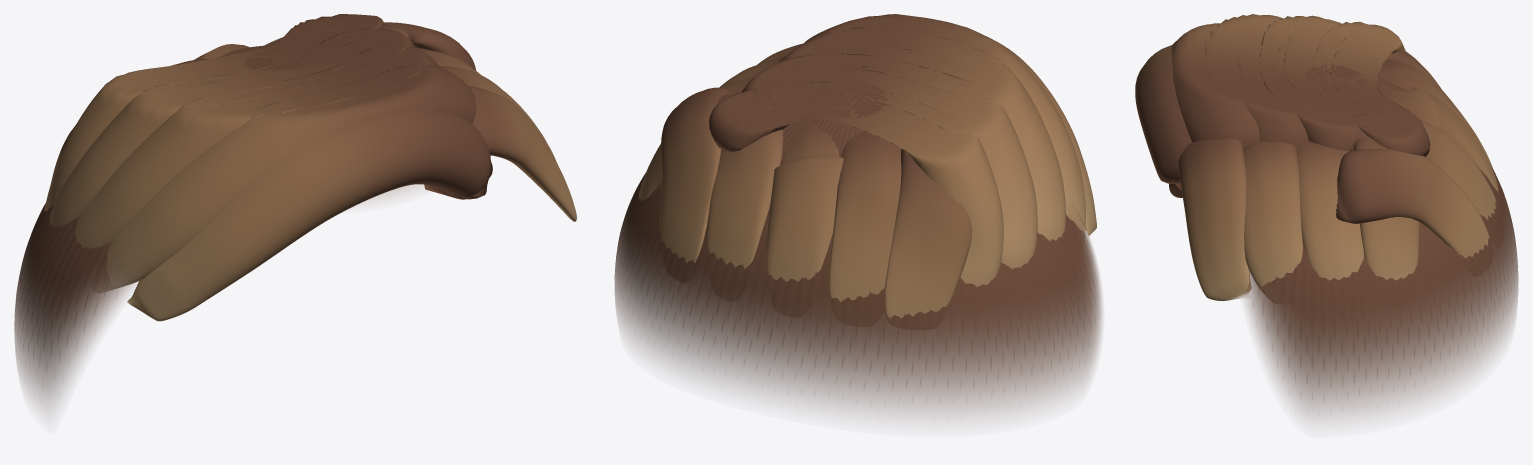
File: Masculine-taper-bucket257-hair-ombre.glb
The picture shows the model from 3 angles, left to right: view 1: azimuth 30°, elevation 25°; view 2: azimuth 150°, elevation 25°; view 3: azimuth 270°, elevation 25°; orthographic projection. The views are drawn at different scales.
Parts seen in each view (by area): view 1: 226 hair / Hair252 / sculpted locks, 226 hair / Hair252 / gentle tonal variation, 226 hair / Hair257 / smooth side fade, 226 hair / Hair257 / directional fade marks; view 2: 226 hair / Hair252 / sculpted locks, 226 hair / Hair257 / smooth side fade, 226 hair / Hair252 / gentle tonal variation, 226 hair / Hair257 / directional fade marks; view 3: 226 hair / Hair252 / sculpted locks, 226 hair / Hair257 / smooth side fade, 226 hair / Hair252 / gentle tonal variation, 226 hair / Hair257 / directional fade marks.
Part boxes in pixels (bbox=[...]): 226 hair / Hair252 / sculpted locks: bbox=[44, 14, 555, 291]; 226 hair / Hair252 / gentle tonal variation: bbox=[127, 58, 576, 321]; 226 hair / Hair257 / smooth side fade: bbox=[14, 45, 422, 410]; 226 hair / Hair257 / directional fade marks: bbox=[16, 205, 108, 358]; 226 hair / Hair252 / sculpted locks: bbox=[639, 14, 1085, 318]; 226 hair / Hair257 / smooth side fade: bbox=[614, 80, 1102, 417]; 226 hair / Hair252 / gentle tonal variation: bbox=[757, 20, 1096, 301]; 226 hair / Hair257 / directional fade marks: bbox=[624, 174, 1095, 387]; 226 hair / Hair252 / sculpted locks: bbox=[1171, 14, 1498, 300]; 226 hair / Hair257 / smooth side fade: bbox=[1244, 64, 1518, 418]; 226 hair / Hair252 / gentle tonal variation: bbox=[1135, 45, 1492, 300]; 226 hair / Hair257 / directional fade marks: bbox=[1258, 166, 1515, 384].
Bounding box in the file's own units: 0.9723 × 0.6199 × 0.7439.
